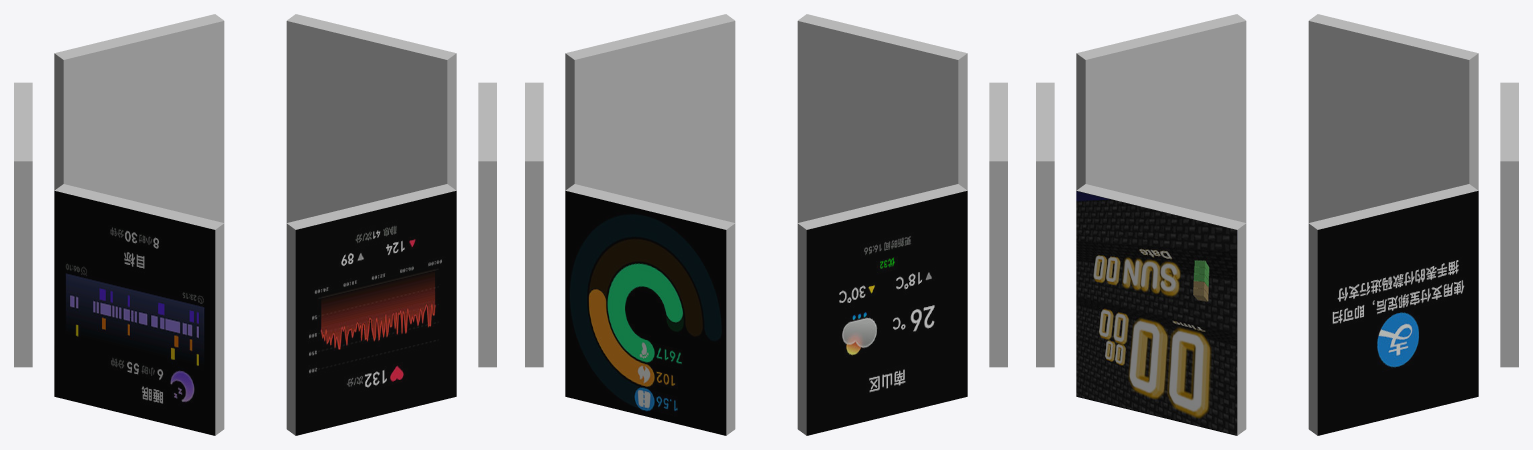
Rendered from prism_thick.obj.
The picture shows the model from 3 angles, left to right: view 1: azimuth 30°, elevation 25°; view 2: azimuth 150°, elevation 25°; view 3: azimuth 270°, elevation 25°; orthographic projection.
Parts seen in each view (by area): view 1: 立方体.003, 立方体.004, 立方体.001, 立方体, 立方体.002, 立方体.005; view 2: 立方体, 立方体.005, 立方体.002, 立方体.003, 立方体.001, 立方体.004; view 3: 立方体.001, 立方体.002, 立方体.004, 立方体.005, 立方体, 立方体.003.
Boxes of the visible parts, x1,y1,x2,y2 form: 立方体.003: (286,184,456,435); 立方体.004: (54,184,224,435); 立方体.001: (286,14,456,222); 立方体: (54,14,224,222); 立方体.002: (478,82,496,367); 立方体.005: (14,82,32,367); 立方体: (565,184,735,435); 立方体.005: (797,184,967,435); 立方体.002: (565,14,735,222); 立方体.003: (797,14,967,222); 立方体.001: (525,82,543,367); 立方体.004: (989,82,1007,367); 立方体.001: (1308,184,1478,435); 立方体.002: (1076,184,1246,435); 立方体.004: (1076,14,1246,222); 立方体.005: (1308,14,1478,222); 立方体: (1500,82,1518,367); 立方体.003: (1036,82,1054,367).
Bounding box in the file's own units: 5.5 × 2.45 × 5.2.
Materials: 7 (6 with a texture image).
